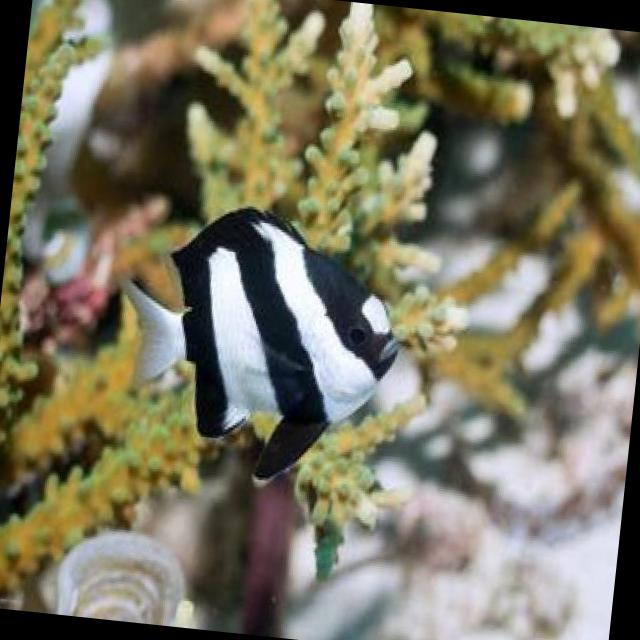Three_striped DasmselFish: (101, 190, 412, 498)
